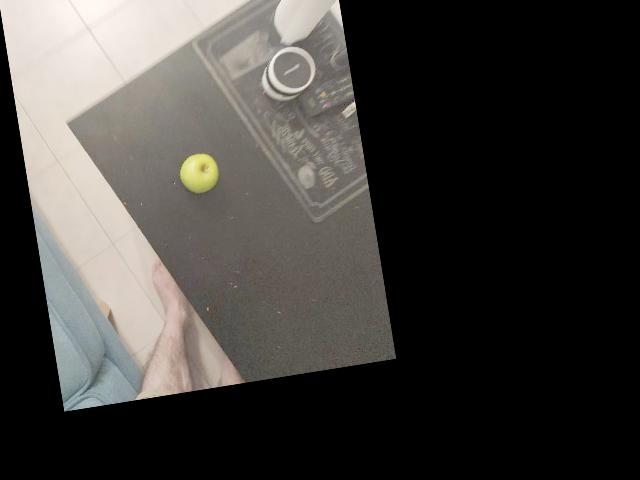apple: (82, 93, 148, 160)
